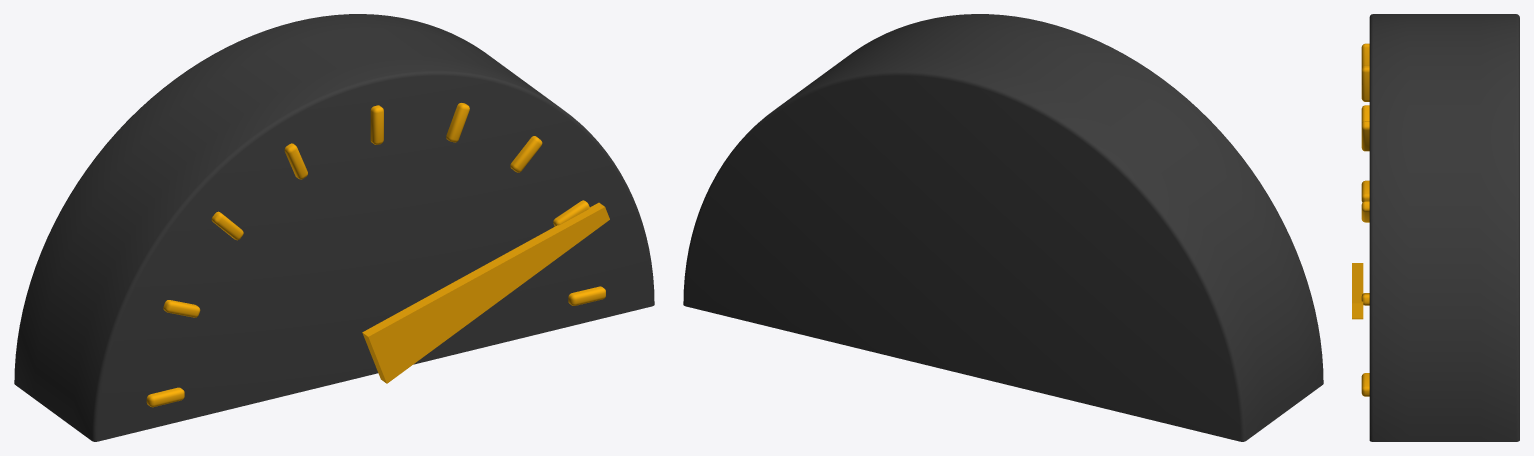
File: AP_Acselerator.glb
3 views of the same model, side by side, from view 1: azimuth 30°, elevation 25°; view 2: azimuth 150°, elevation 25°; view 3: azimuth 270°, elevation 25° (orthographic). The views are drawn at different scales.
Visible parts, largest first — view 1: Cylinder, Extrude.001; view 2: Cylinder; view 3: Cylinder, Extrude.001, Cube 4, Cube 5, Cube 8, Cube 3, Cube 0, Cube 6.
Part boxes in pixels (left/top/right/bottom): Cylinder: left=14, top=14, right=654, bottom=441; Extrude.001: left=362, top=202, right=609, bottom=383; Cylinder: left=683, top=14, right=1323, bottom=441; Cylinder: left=1369, top=14, right=1519, bottom=441; Extrude.001: left=1352, top=263, right=1363, bottom=319; Cube 4: left=1361, top=65, right=1369, bottom=101; Cube 5: left=1361, top=121, right=1369, bottom=151; Cube 8: left=1361, top=373, right=1369, bottom=396; Cube 3: left=1361, top=43, right=1369, bottom=68; Cube 0: left=1361, top=180, right=1369, bottom=202; Cube 6: left=1361, top=201, right=1369, bottom=222.
Size of the model in its own units: 160 by 80.97 by 44.65.
